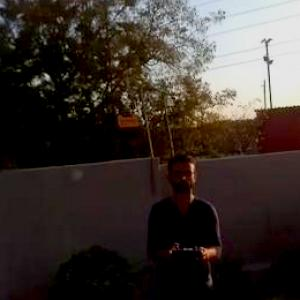follow: (135, 145, 224, 299)
